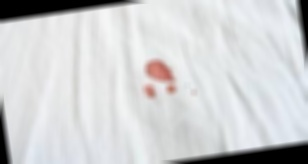blood: (142, 59, 178, 99)
